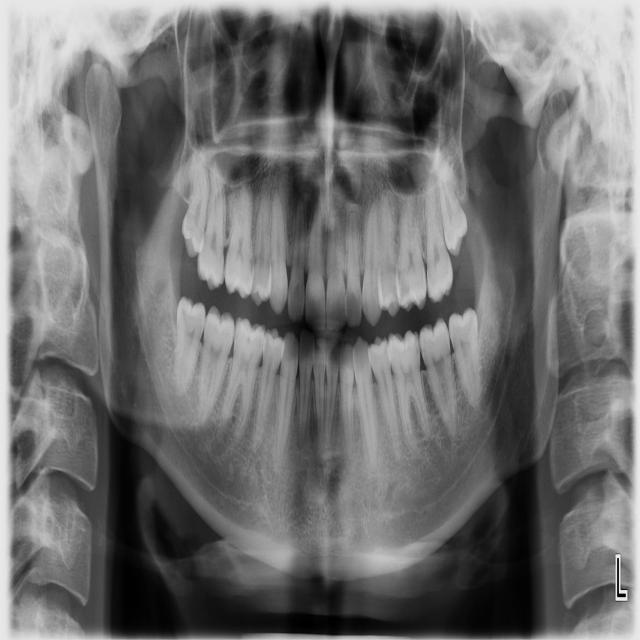mandibula: (80, 64, 570, 575)
